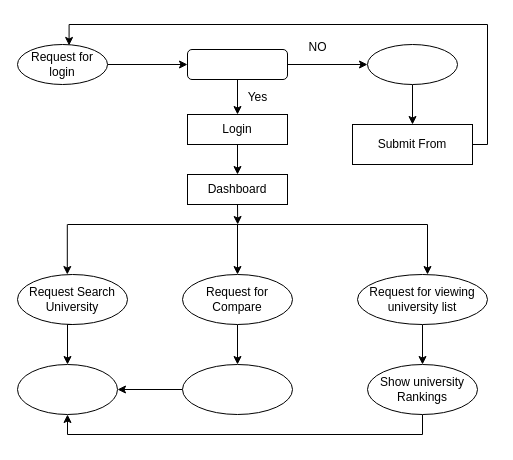
This 513x460 diagram has some shape labels left out. Each missing label, with the centre of its shape:
"Existing User" belongs at point (237, 64).
"Request for registration" belongs at point (412, 64).
"Select multiple university" belongs at point (237, 389).
"View all the details of university" belongs at point (67, 389).
